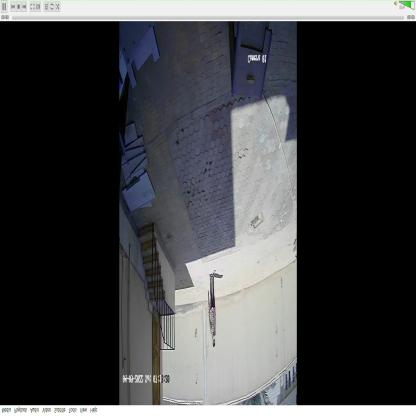handgun: (206, 286, 213, 319)
